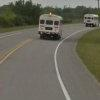Bus: (37, 11, 65, 44)
